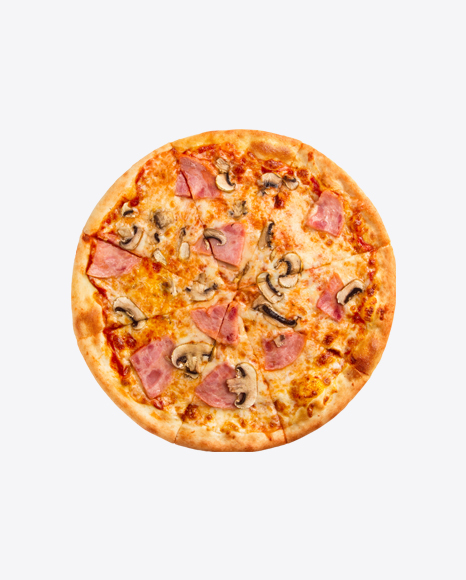Ham: (129, 334, 173, 399), (192, 362, 244, 412), (84, 240, 145, 280), (198, 216, 246, 266), (300, 185, 343, 236), (188, 302, 239, 345), (174, 157, 221, 199), (262, 331, 306, 371), (315, 274, 346, 322)
Pizza: (72, 129, 397, 453)
